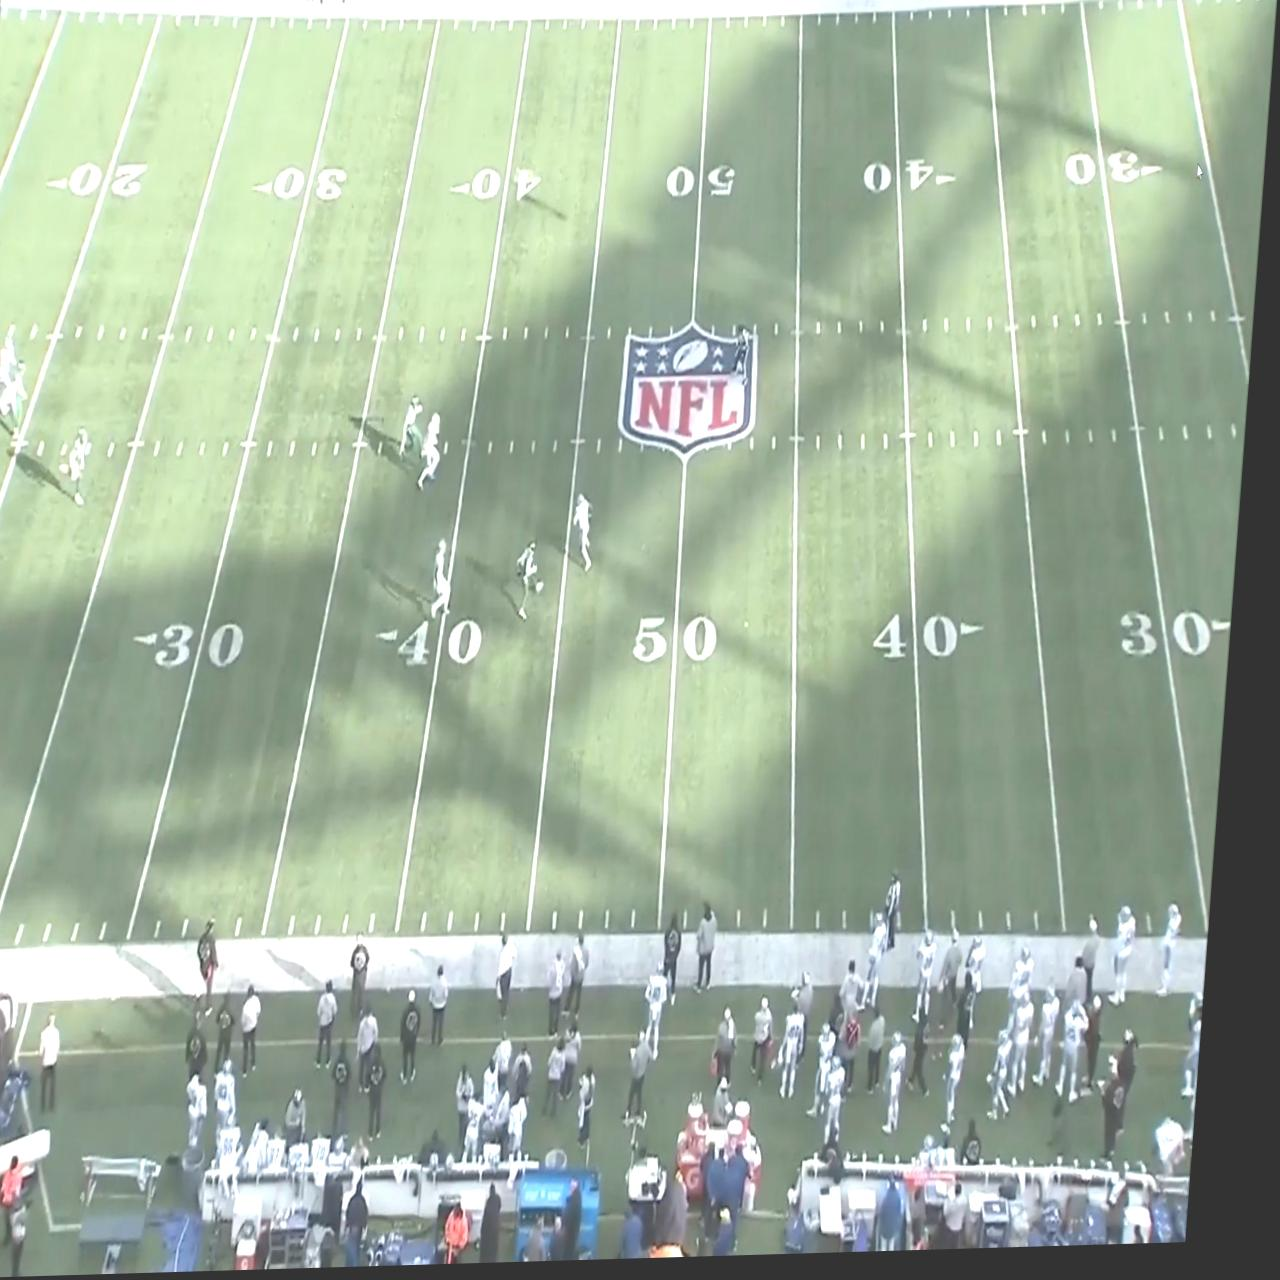20L: (48, 158, 151, 203)
30L: (141, 620, 258, 675), (254, 166, 353, 206)
30R: (1128, 610, 1242, 666), (1069, 156, 1165, 191)
40L: (383, 618, 493, 670), (451, 171, 545, 207)
40R: (883, 618, 998, 666), (866, 162, 961, 202)
50: (641, 614, 729, 668), (667, 164, 741, 205)
